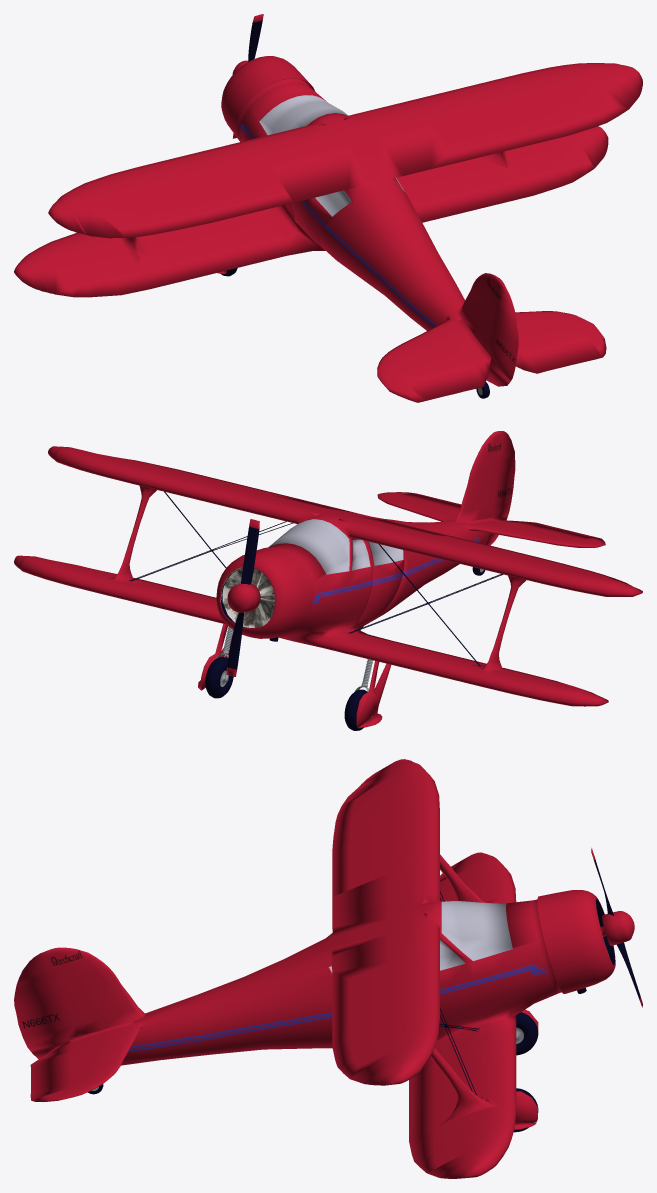
Rendered from Beech_Model-17_aircraftnoengine.glb.
3 renders of one model, top to bottom at view 1: azimuth 30°, elevation 25°; view 2: azimuth 150°, elevation 25°; view 3: azimuth 270°, elevation 25°, orthographic. The views are drawn at different scales.
Visible parts, largest first — view 1: Beech17aircraft; view 2: Beech17aircraft; view 3: Beech17aircraft.
Boxes of the visible parts, x1,y1,x2,y2 form: Beech17aircraft: [14, 14, 642, 402]; Beech17aircraft: [14, 431, 642, 730]; Beech17aircraft: [14, 759, 642, 1178].
Bounding box in the file's own units: 9.8 × 3.49 × 8.18.
1 material, 1 textured.
